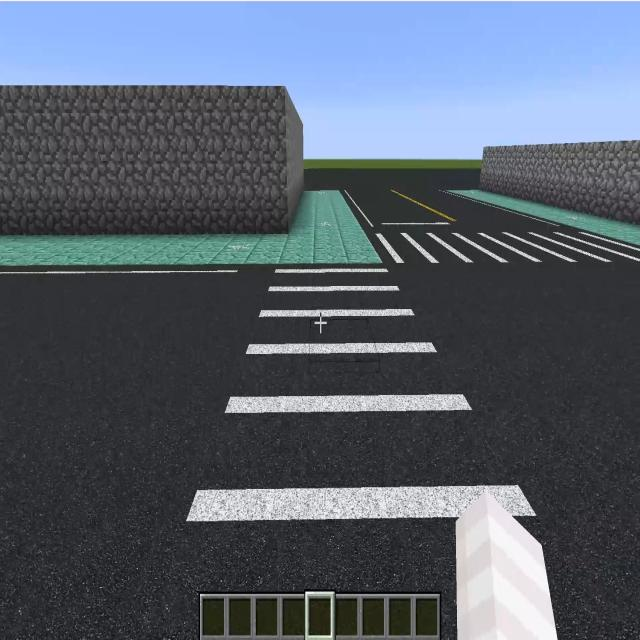crosswalk: (188, 486, 534, 521), (376, 232, 639, 263)
road: (0, 171, 639, 639)
sidewalk: (0, 192, 381, 266), (441, 190, 640, 246)
